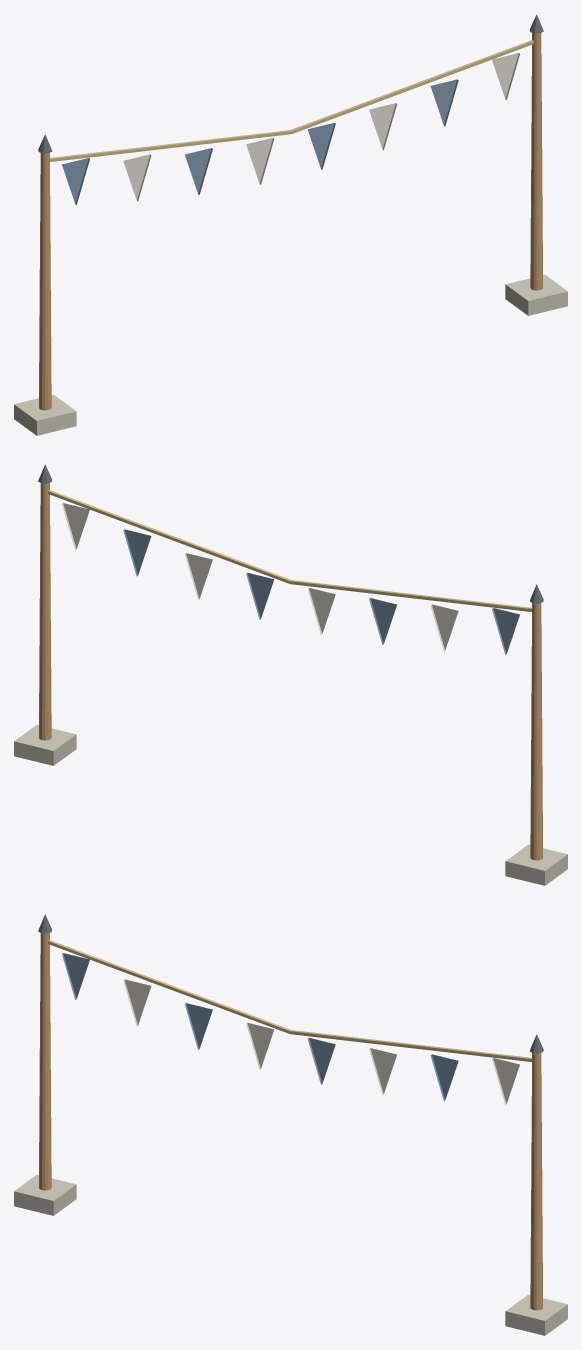
The model's file is pennant-line.glb.
3 views of the same model, one above another, from view 1: azimuth 30°, elevation 25°; view 2: azimuth 150°, elevation 25°; view 3: azimuth 330°, elevation 25° (orthographic).
Parts seen in each view (by area): view 1: pennant-line; view 2: pennant-line; view 3: pennant-line.
Boxes of the visible parts, <box> form: pennant-line: <box>14,14,567,435</box>; pennant-line: <box>14,464,567,885</box>; pennant-line: <box>14,914,567,1335</box>.
Bounding box in the file's own units: 6.7 × 3.48 × 0.4997.
